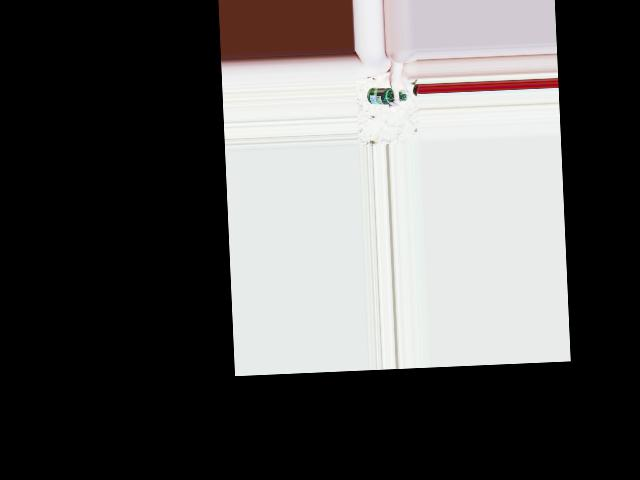beer: (366, 85, 407, 105)
